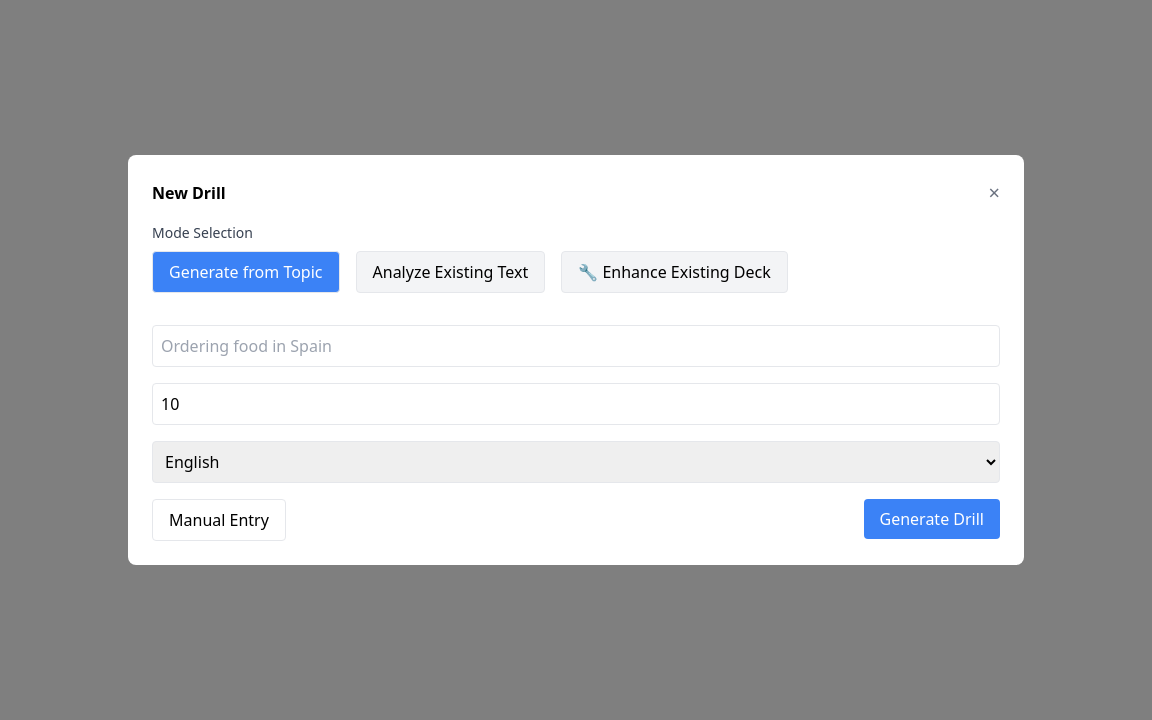
Wizard Flow Guard (PN-063) › Pro Success Flow › returns preview with correct number of lines
The image size is (1152, 720).
Type "Test topic" into the field with placeholder "Ordering food in Spain".
click(576, 346); type("Test topic")  # box x1=152 y1=325 x2=1000 y2=367
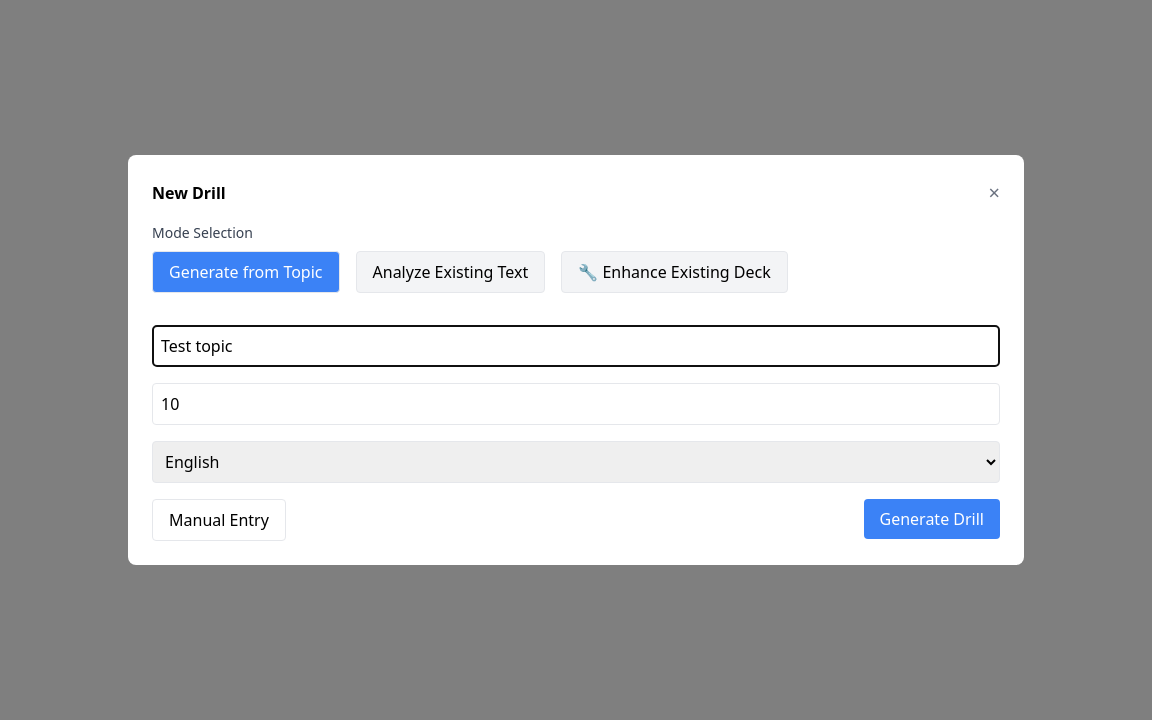
Set count to 5
Replace the text in the number field showing "10" with "5" at point(576, 404), box x1=152 y1=383 x2=1000 y2=425
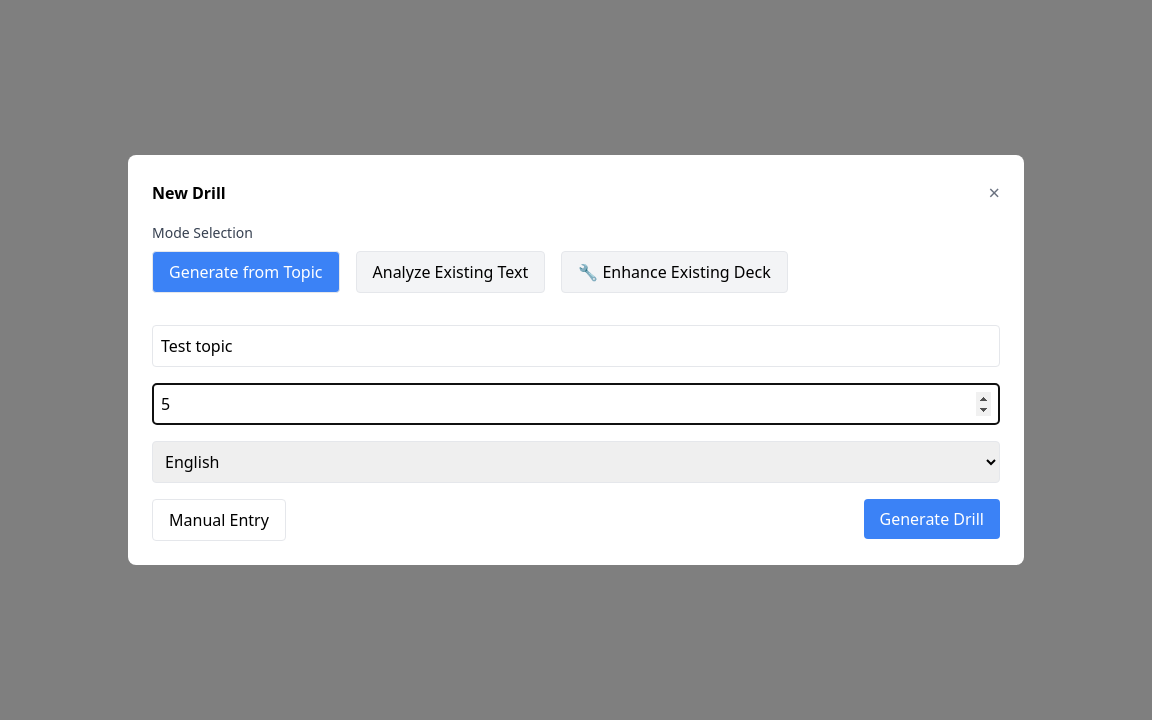
Click the button "Generate Drill".
click(932, 519)  # box x1=864 y1=499 x2=1000 y2=539
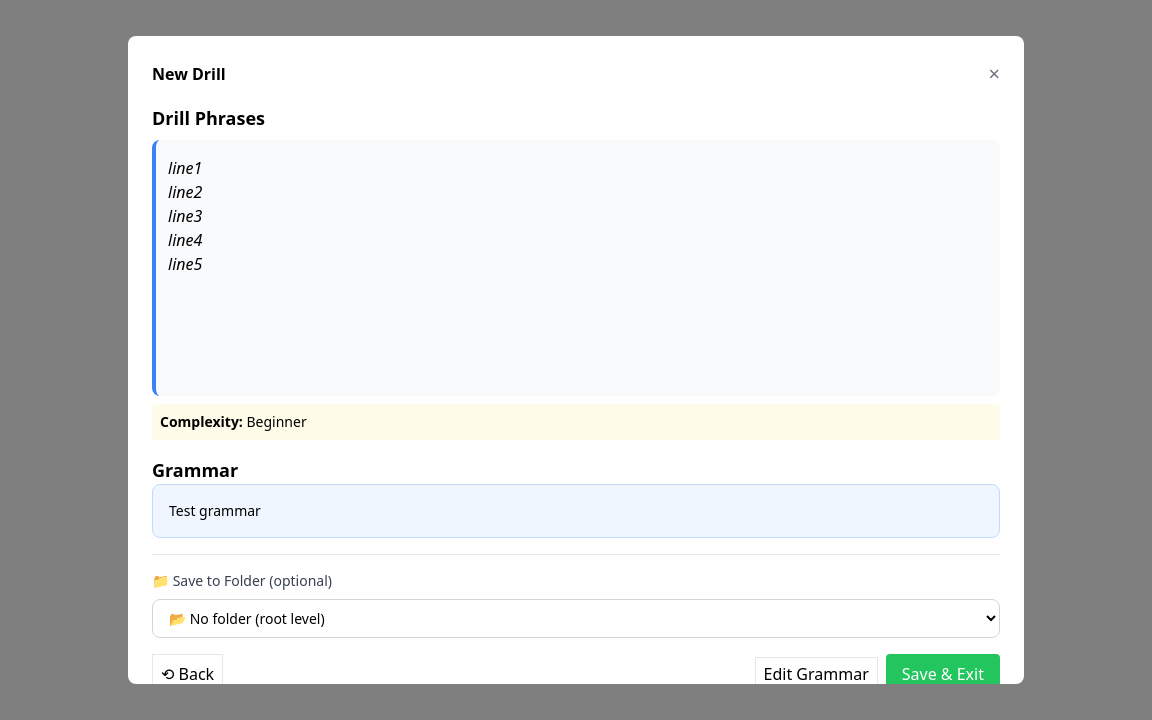
Expected: the text "line1 line2 line3 line4 line5" is shown, x1=152 y1=140 x2=1000 y2=396
